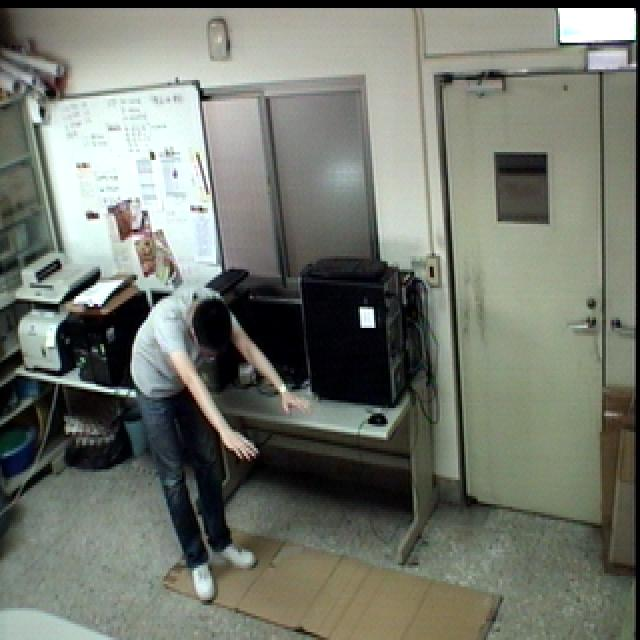bend: (124, 279, 315, 608)
